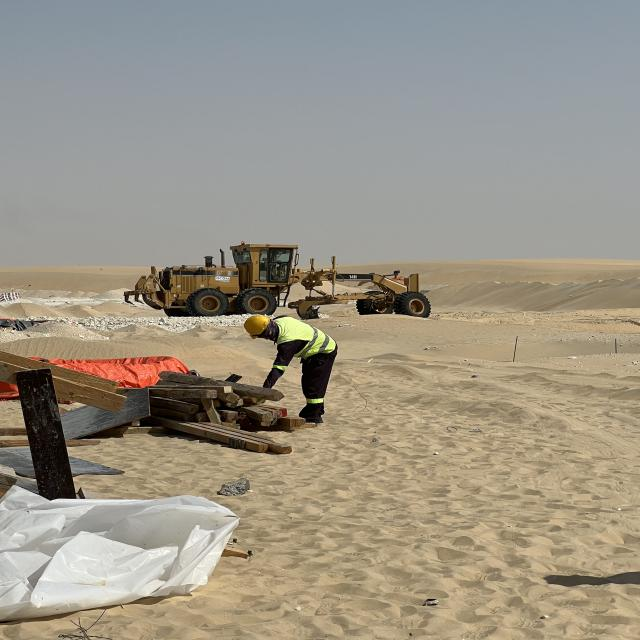Grader: (121, 238, 432, 322)
